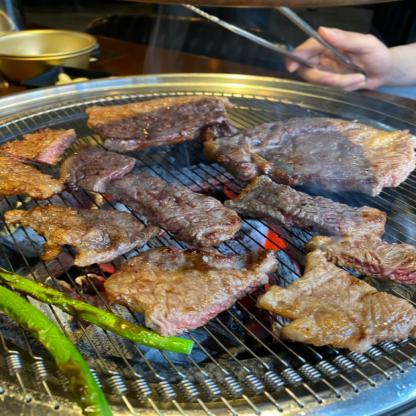Carne: (96, 245, 278, 333), (223, 110, 415, 193), (273, 260, 416, 357), (219, 179, 403, 236), (106, 167, 242, 239), (0, 206, 174, 262), (81, 92, 219, 152), (301, 232, 415, 278), (40, 146, 132, 199), (1, 120, 64, 174), (1, 153, 64, 199)
